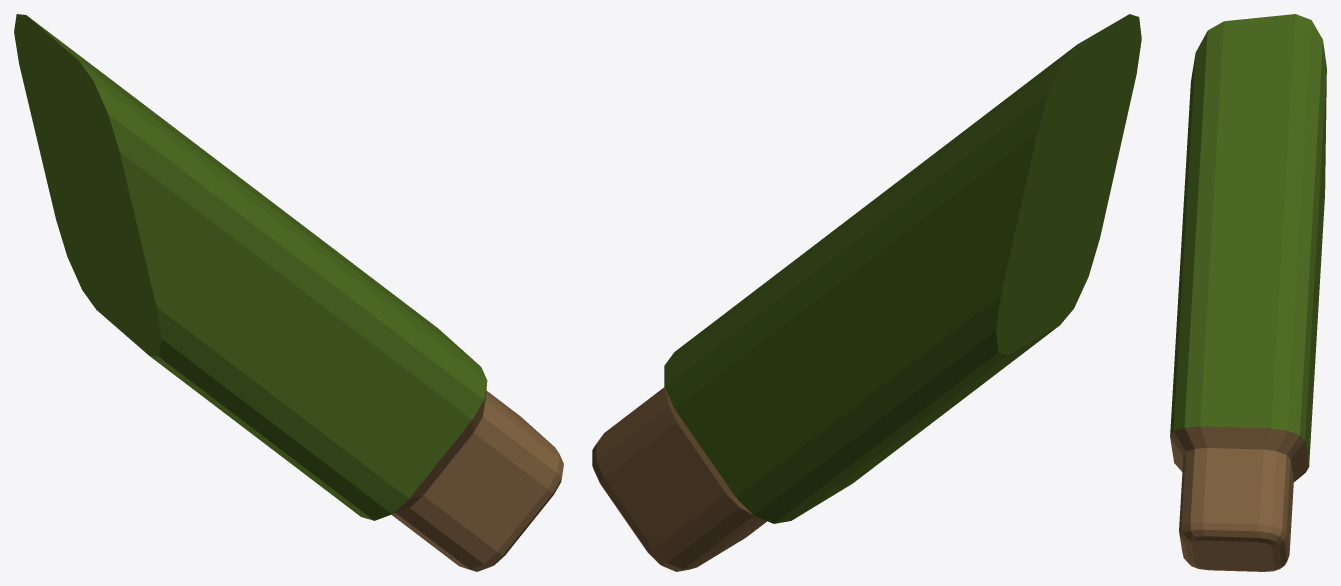
File: Right_Arm.glb
The picture shows the model from 3 angles, left to right: view 1: azimuth 30°, elevation 25°; view 2: azimuth 150°, elevation 25°; view 3: azimuth 270°, elevation 25°; orthographic projection. The views are drawn at different scales.
Parts seen in each view (by area): view 1: PlayerArms.001; view 2: PlayerArms.001; view 3: PlayerArms.001.
Boxes of the visible parts, x1,y1,x2,y2 form: PlayerArms.001: (14, 14, 563, 571); PlayerArms.001: (592, 14, 1141, 571); PlayerArms.001: (1170, 14, 1326, 571).
Size of the model in its own units: 0.4062 by 0.4935 by 0.1658.
